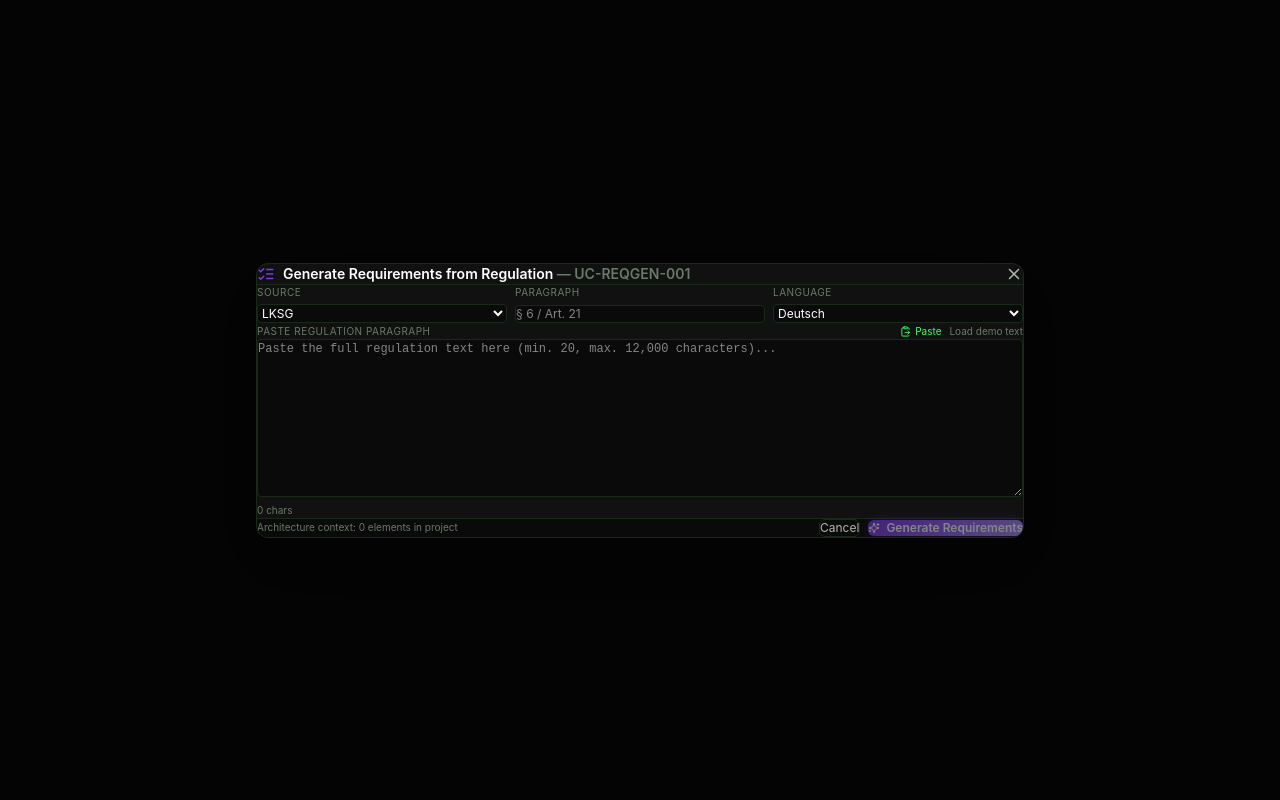
it: THE-570: a law with only one language version says so instead of loading the wrong one
Note: Dialog steht auf Deutsch, LkSG existiert nur deutsch → kein Hinweis noetig.
Step 1. Select "LKSG" in the dropdown below "Source" → (382,313), box top-left (257, 304), bottom-right (507, 322)
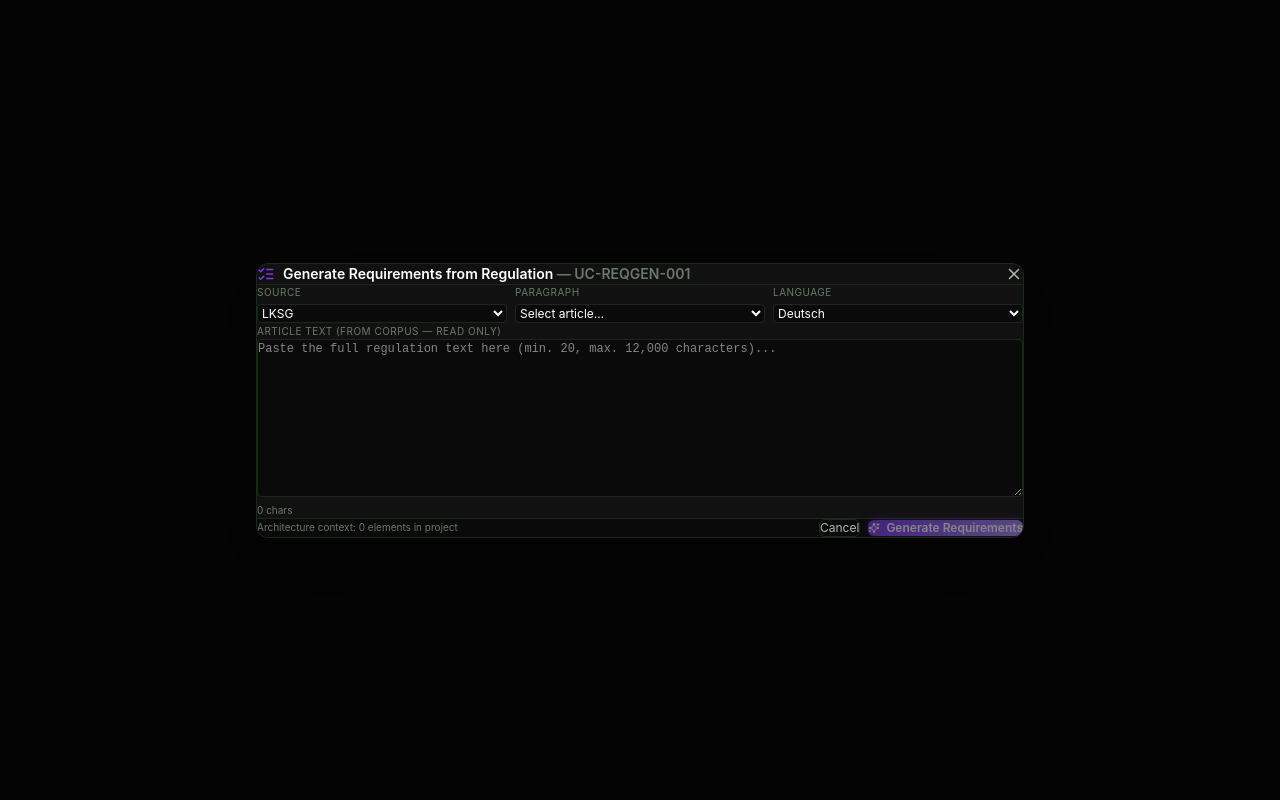
Expected: the dropdown with test id "section-select" is shown, top-left (515, 304), bottom-right (765, 322)
